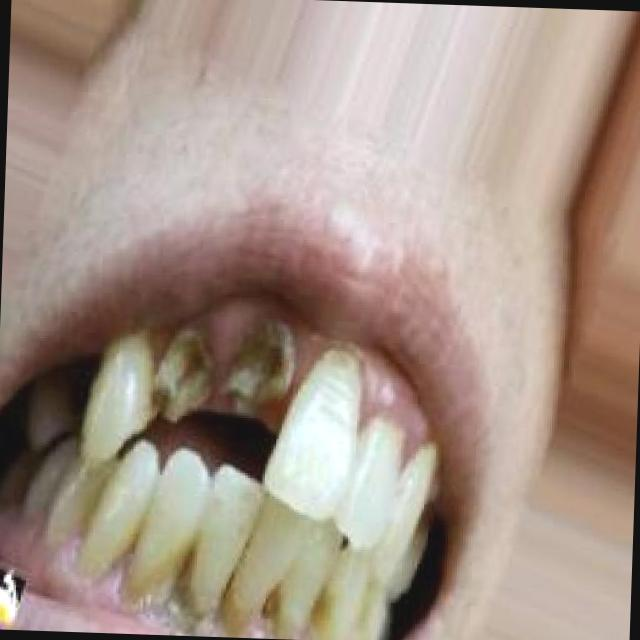caries: (225, 319, 290, 419), (158, 334, 220, 418)
